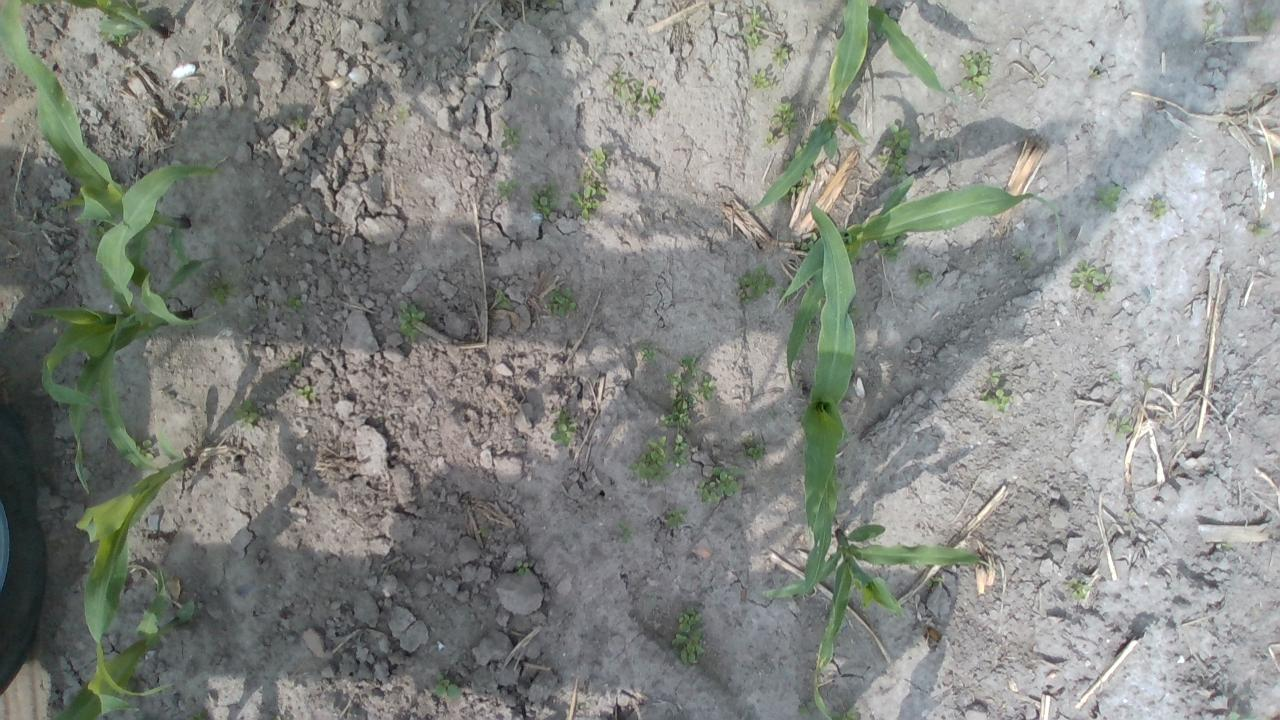Maize: (0, 0, 215, 328), (32, 155, 215, 503), (778, 170, 1066, 390), (73, 316, 198, 702), (766, 525, 990, 720), (746, 0, 870, 210), (799, 200, 858, 602), (54, 573, 196, 720), (840, 0, 964, 105), (24, 0, 169, 40)
Weeds: (669, 608, 706, 666), (876, 122, 912, 181), (1070, 261, 1116, 303), (696, 466, 745, 505), (630, 434, 671, 480), (736, 264, 776, 304), (958, 49, 992, 96), (568, 182, 608, 220), (659, 393, 696, 432), (532, 179, 560, 221), (664, 356, 696, 392), (398, 300, 428, 337), (743, 9, 770, 50), (543, 287, 577, 318), (550, 408, 576, 448), (230, 399, 262, 428), (434, 670, 464, 700), (610, 72, 640, 102), (207, 279, 240, 306), (84, 222, 110, 256), (770, 102, 797, 134), (876, 235, 906, 263), (1094, 184, 1121, 212), (980, 388, 1009, 414), (1246, 10, 1276, 32), (1109, 415, 1134, 441), (640, 87, 664, 114), (749, 70, 777, 92), (1066, 576, 1091, 600), (672, 434, 689, 464), (696, 375, 716, 400), (615, 519, 633, 545), (590, 147, 608, 173), (500, 126, 521, 148), (1150, 197, 1168, 222), (133, 439, 154, 460), (744, 438, 764, 460), (496, 176, 518, 194), (771, 44, 789, 66), (912, 270, 932, 289), (666, 510, 687, 528), (494, 288, 512, 308), (515, 558, 533, 577), (761, 130, 780, 148), (798, 234, 818, 251), (100, 32, 128, 44), (1200, 13, 1216, 34), (1016, 248, 1034, 266), (286, 352, 302, 372), (780, 185, 800, 200), (1226, 711, 1258, 720), (150, 568, 162, 592), (640, 343, 656, 361), (794, 138, 809, 157), (926, 574, 944, 589), (287, 296, 305, 310), (296, 384, 314, 398), (190, 94, 208, 107), (801, 166, 814, 184), (1252, 222, 1268, 236), (832, 711, 856, 720), (292, 114, 305, 130), (798, 703, 814, 716), (987, 371, 1001, 384), (580, 168, 592, 182), (1270, 155, 1280, 170), (1111, 371, 1121, 383), (190, 712, 204, 720), (1221, 542, 1234, 550), (778, 285, 786, 297), (1090, 70, 1100, 79), (397, 104, 406, 114), (800, 426, 804, 434)
